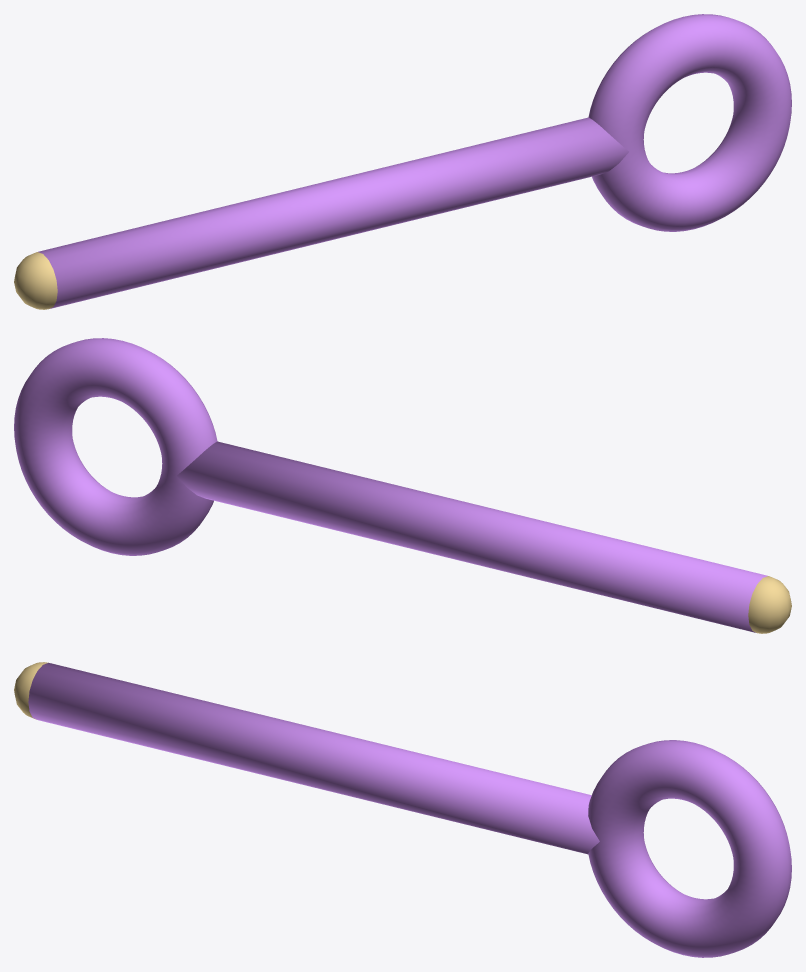
Rendered from key-pin-CASrX5hW.glb.
The picture shows the model from 3 angles, top to bottom: view 1: azimuth 30°, elevation 25°; view 2: azimuth 150°, elevation 25°; view 3: azimuth 330°, elevation 25°; orthographic projection.
Visible parts, largest first — view 1: R3D_key-pin_Body_0, R3D_key-pin_Body_1, R3D_key-pin_Tip_0; view 2: R3D_key-pin_Body_0, R3D_key-pin_Body_1, R3D_key-pin_Tip_0; view 3: R3D_key-pin_Body_0, R3D_key-pin_Body_1, R3D_key-pin_Tip_0.
Boxes of the visible parts, x1,y1,x2,y2 form: R3D_key-pin_Body_0: [38, 117, 628, 308]; R3D_key-pin_Body_1: [588, 14, 791, 231]; R3D_key-pin_Tip_0: [14, 252, 57, 309]; R3D_key-pin_Body_0: [177, 441, 767, 632]; R3D_key-pin_Body_1: [14, 338, 217, 555]; R3D_key-pin_Tip_0: [748, 576, 791, 633]; R3D_key-pin_Body_0: [28, 662, 599, 854]; R3D_key-pin_Body_1: [588, 740, 791, 957]; R3D_key-pin_Tip_0: [14, 662, 47, 719].
Bounding box in the file's own units: 3.64 × 0.94 × 0.24.
